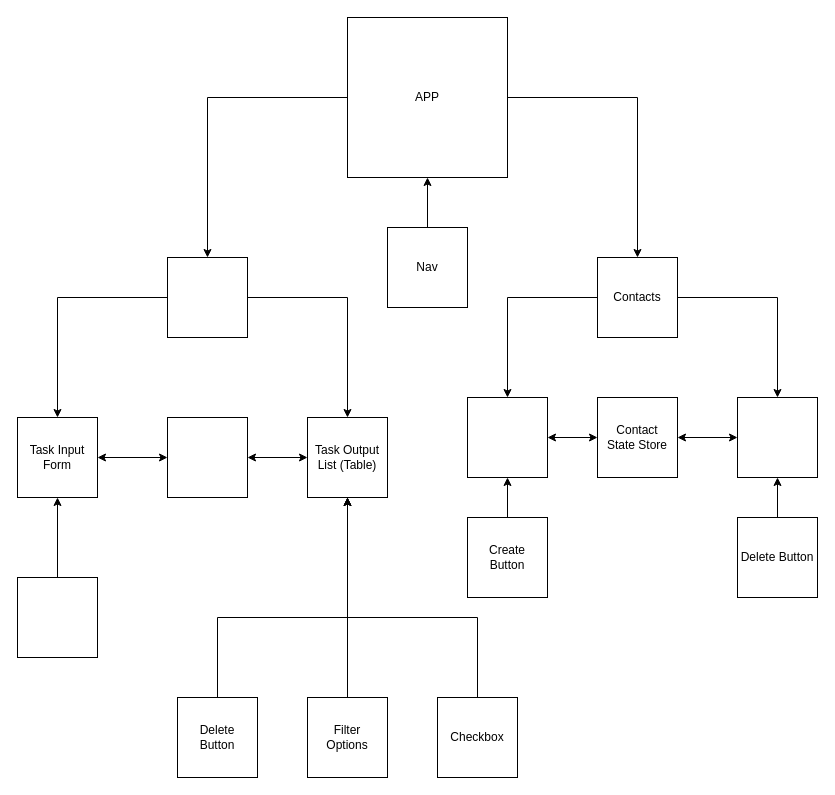
The diagram is 835 pixels wide and 795 high, and some of its shapes have lost their labels. The centre of each missing label's shape, as x and y in pixels:
Add Task Button: the point at 57,617
Existing Contact List (table): the point at 777,437
New Contact Input Form: the point at 507,437
Task State Store: the point at 207,457
Tasks: the point at 207,297
